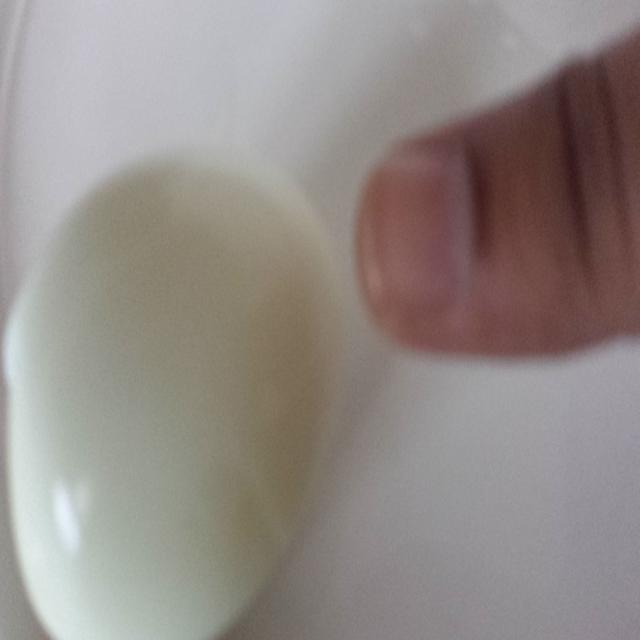egg: (1, 139, 353, 640)
